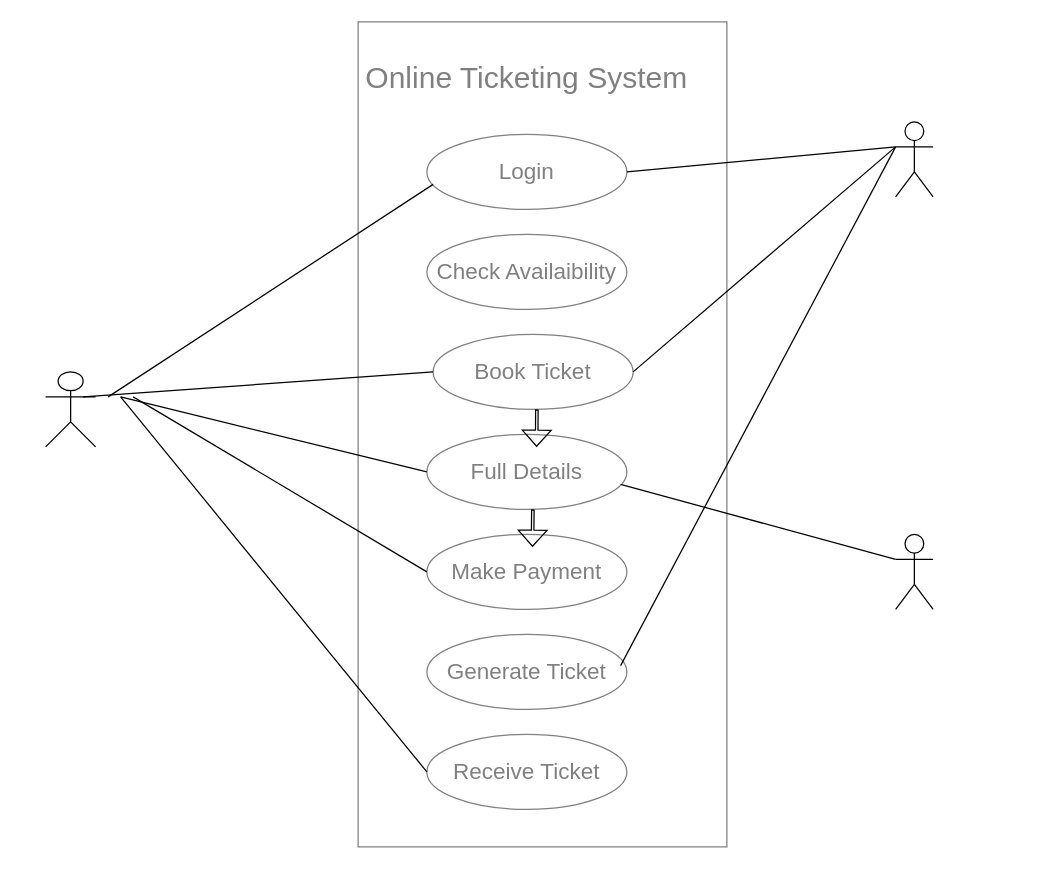
Some shapes in this 1041 by 869 pixel diagram are drawn without their labels. Here are the shapes that lost their labels. From the top down, the centre of each, then its label:
pixel 913 159: Ticket Provider
pixel 70 409: Customer
pixel 913 571: Bank Payment Portal
